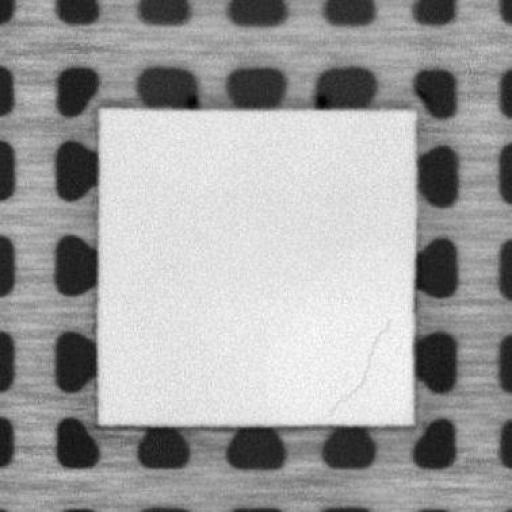DIE_CRACK: (329, 316, 392, 418)
